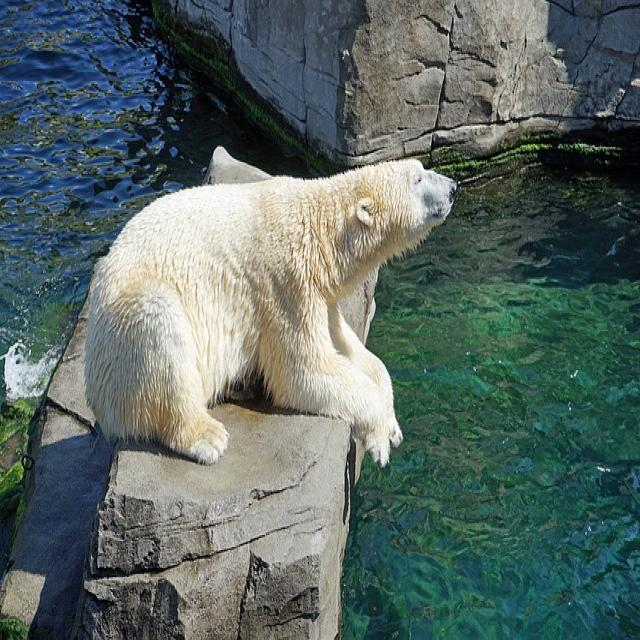Carnivorous: (79, 160, 457, 477)
